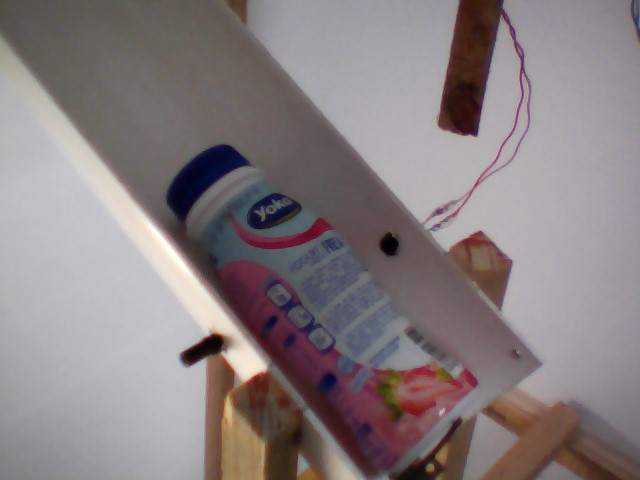plastico: (158, 139, 488, 475)
